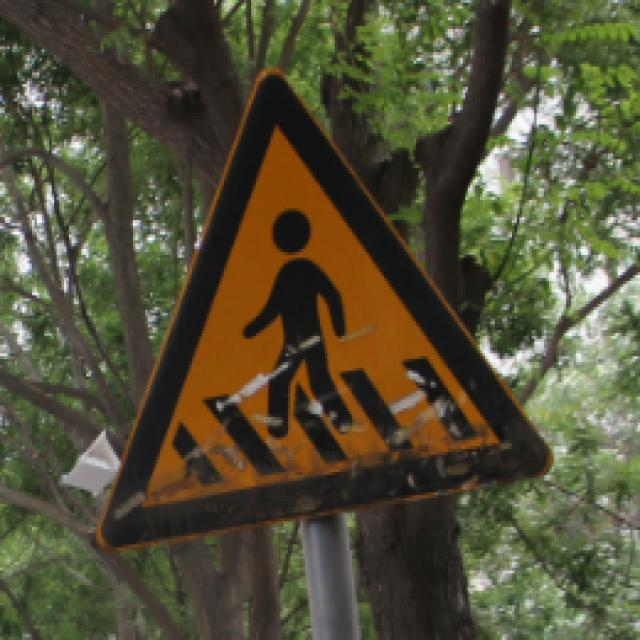Crossing: (95, 50, 559, 566)
